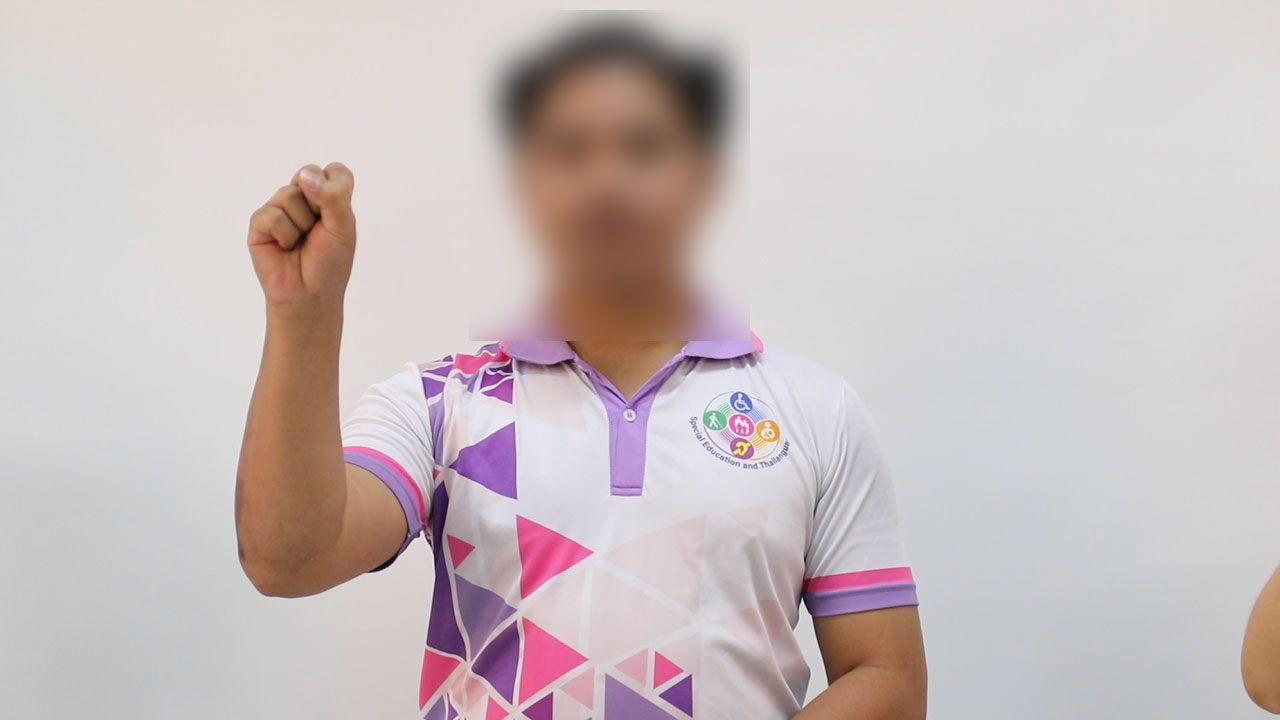sor: (237, 143, 377, 312)
